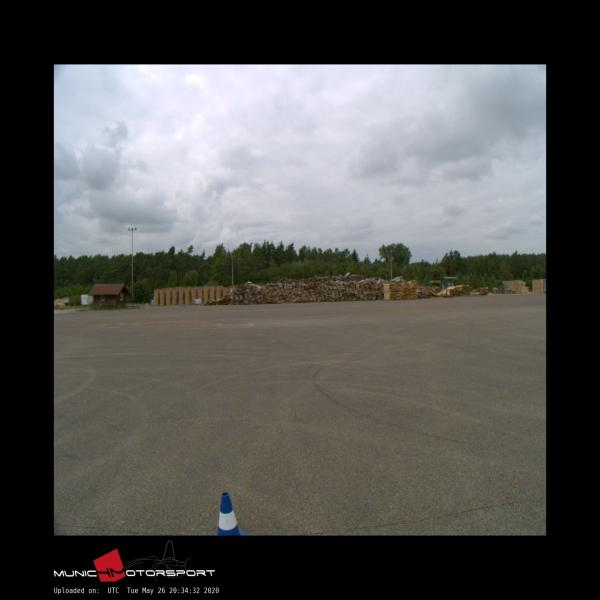blue_cone: (214, 492, 251, 535)
